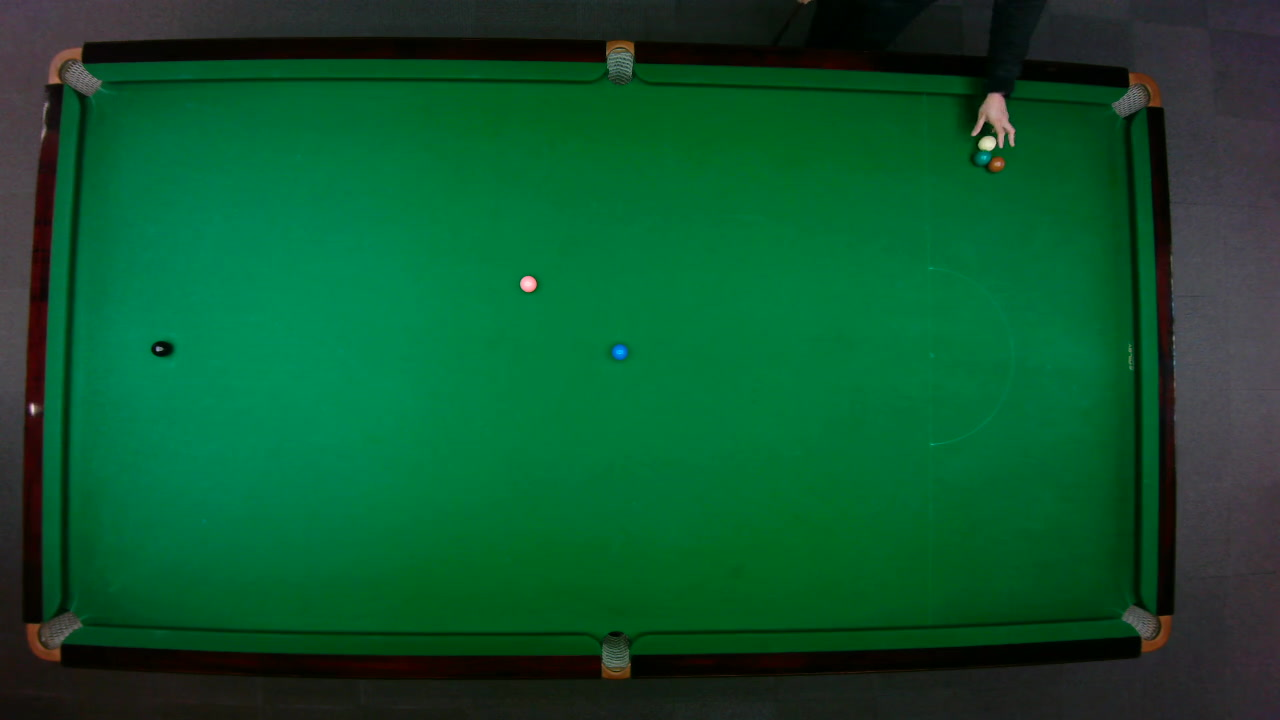bag: (24, 609, 83, 661), (45, 46, 102, 96), (1119, 603, 1171, 651), (1108, 71, 1161, 117), (600, 629, 629, 680), (605, 38, 633, 85)
black: (149, 339, 171, 357)
blue: (610, 343, 628, 360)
brown: (987, 156, 1006, 172)
green: (971, 150, 992, 166)
pink: (518, 274, 537, 292)
white: (975, 134, 996, 151)
zone: (927, 265, 1014, 445)
